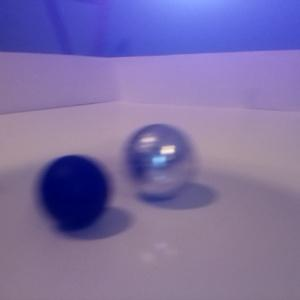alive_ball: (122, 123, 196, 200)
dead_ball: (38, 155, 108, 228)
